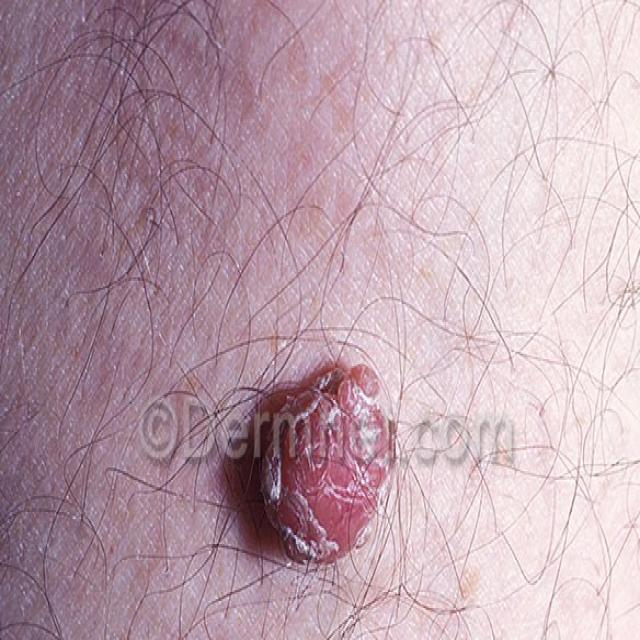Viral Infections: (212, 326, 444, 620), (0, 299, 18, 372)
